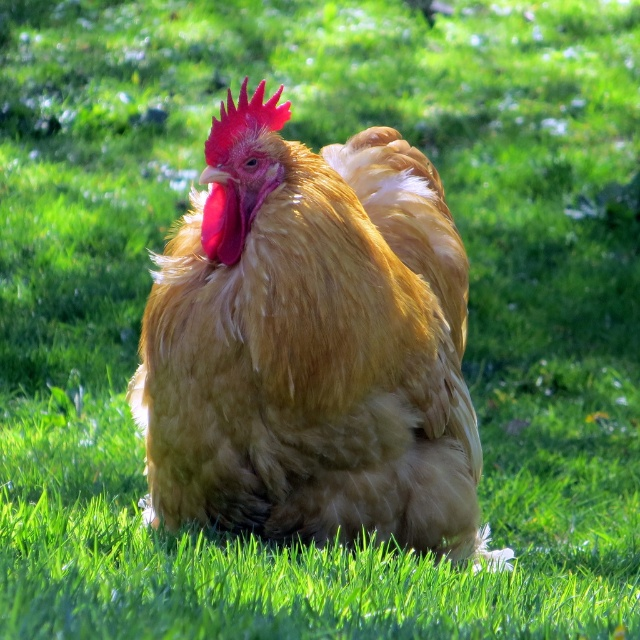Chicken: (136, 78, 492, 579)
